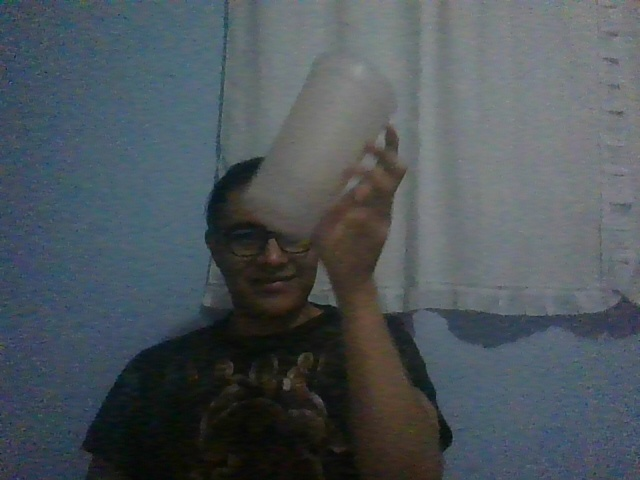vaso: (240, 49, 399, 237)
